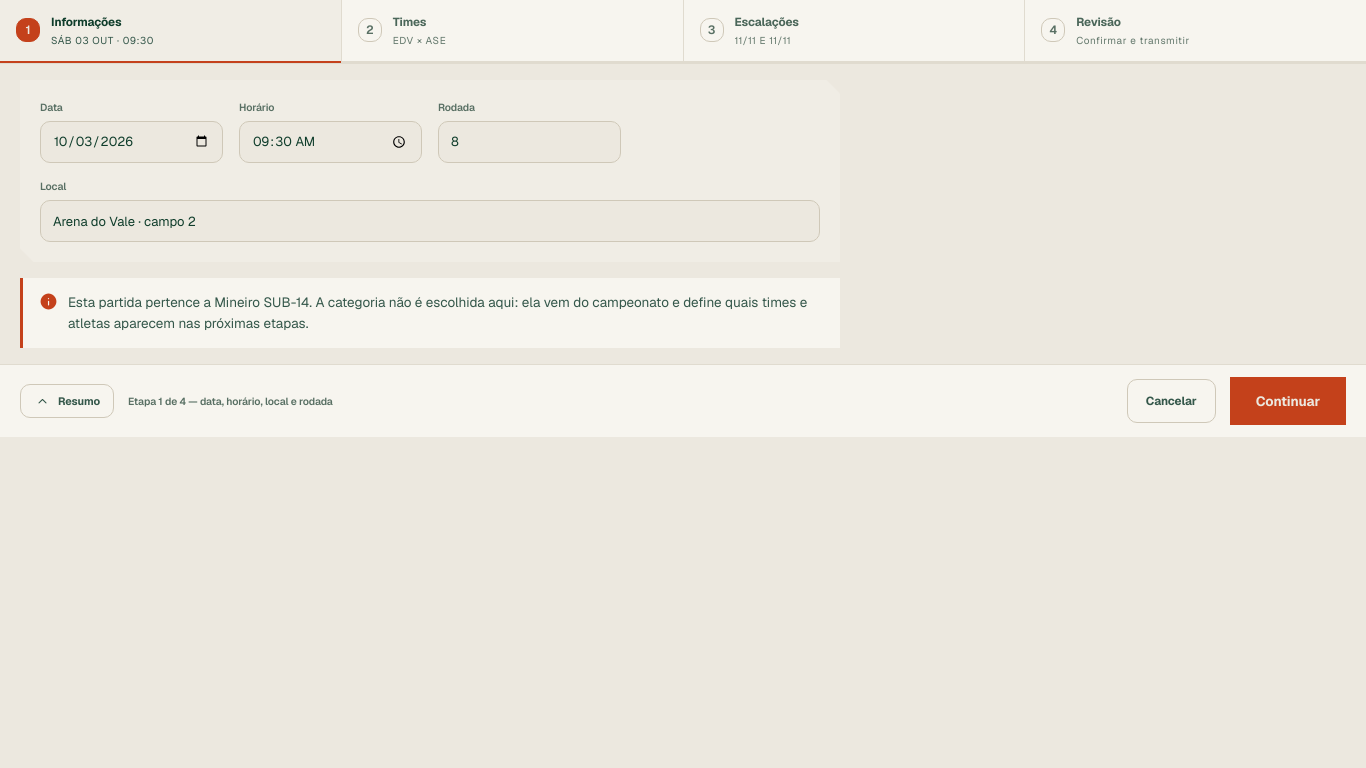
Test: NewMatchWizard › shows the lineup list and then the review of a prefilled match
Click the button "Continuar".
click(1288, 401)  # box [1230,377,1346,425]
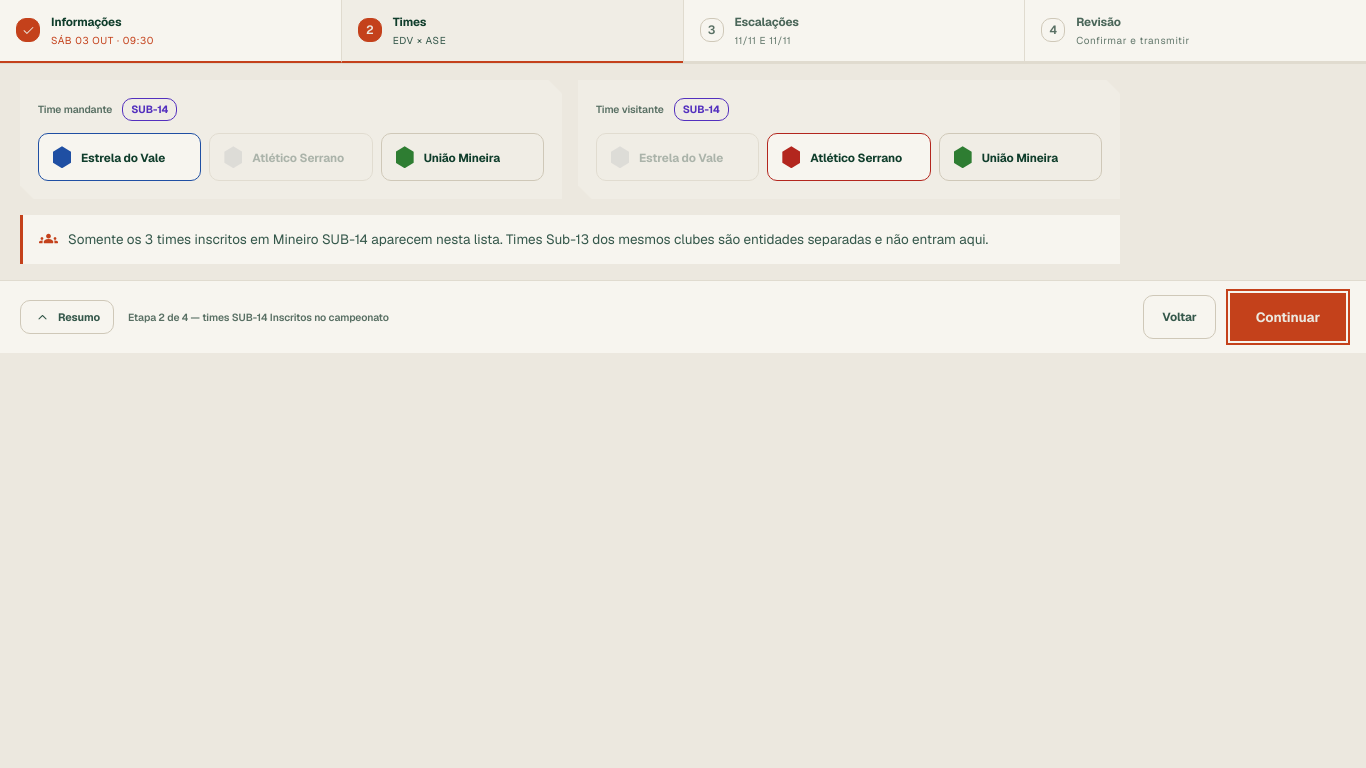
Click the button "Continuar".
click(1288, 317)  # box [1230,293,1346,341]
(page scrolled)
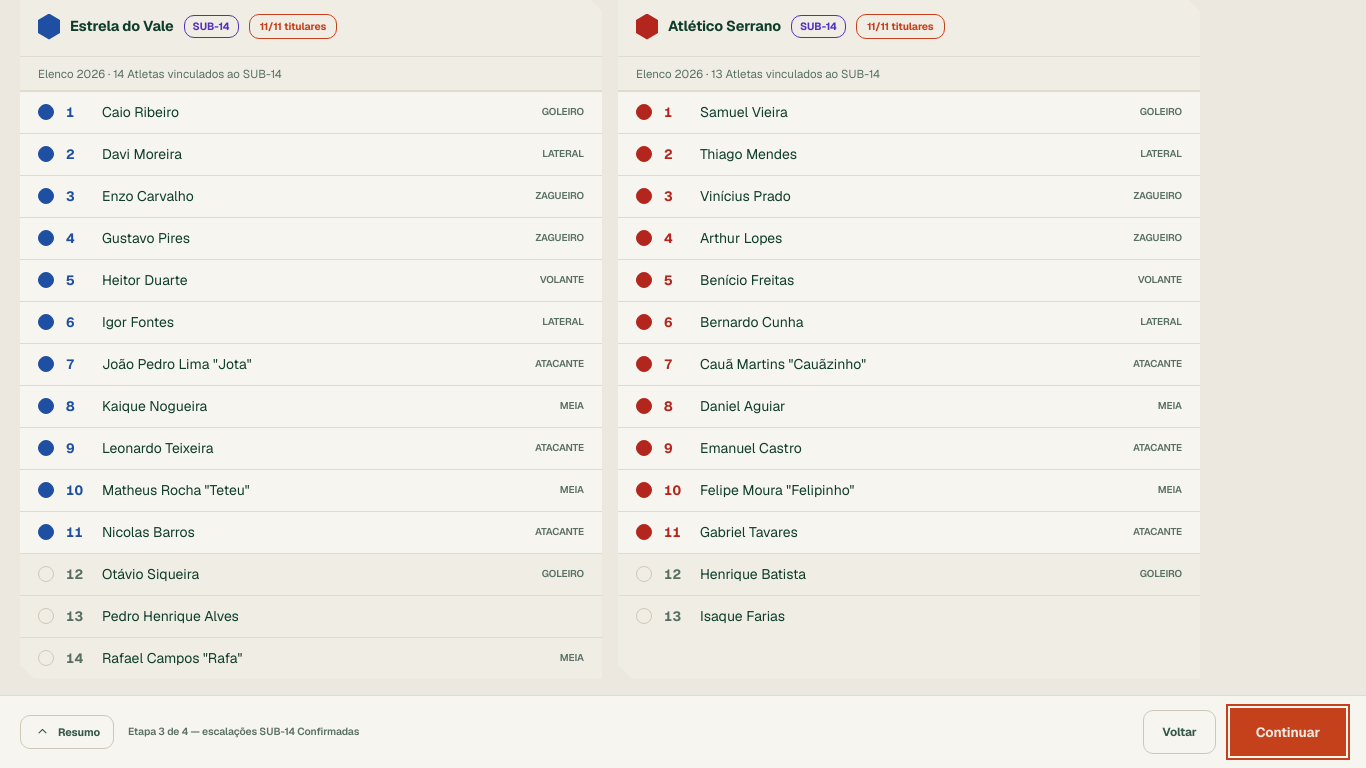
Click the button "Continuar".
click(1288, 732)  # box [1230,708,1346,756]
(page scrolled)
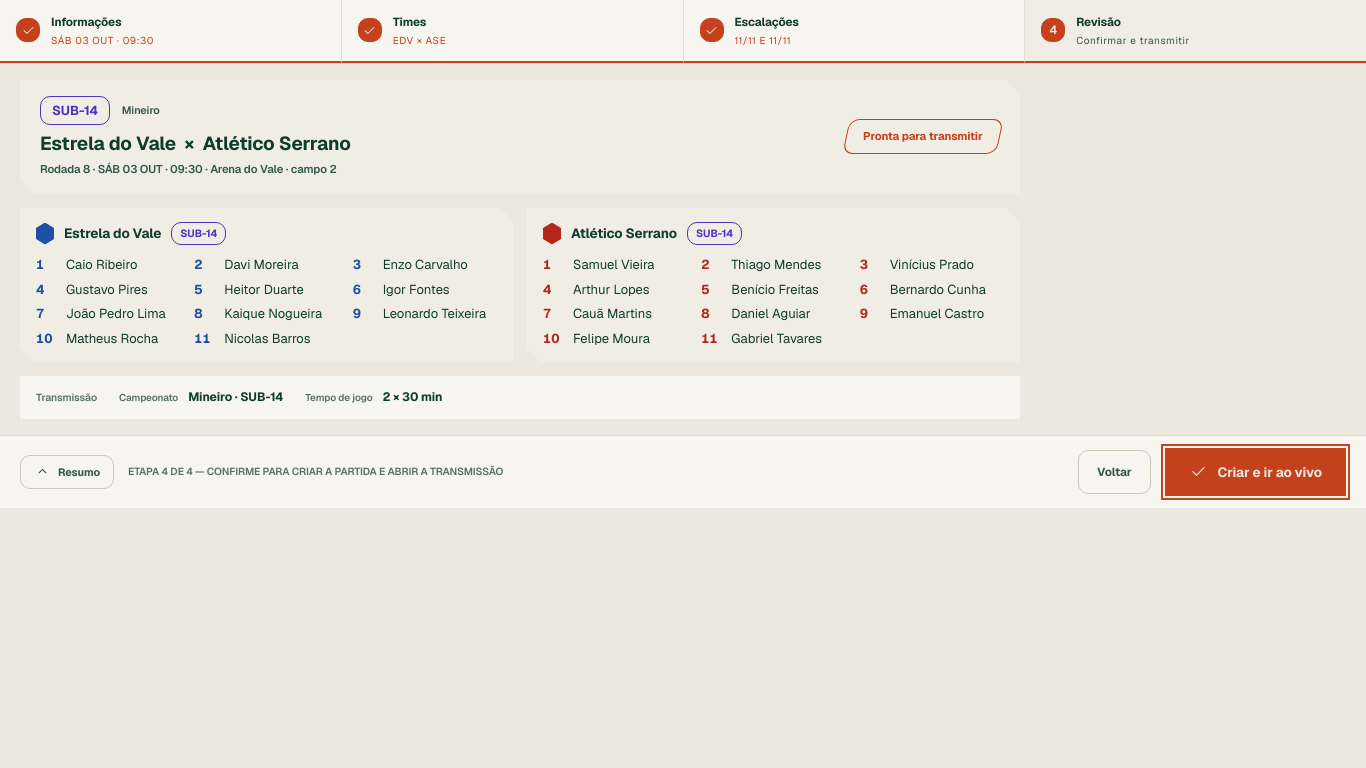
Check: the text "Rodada 8 · SÁB 03 OUT · 09:30 · Arena do Vale · campo 2" is shown, box [40,161,351,178]
